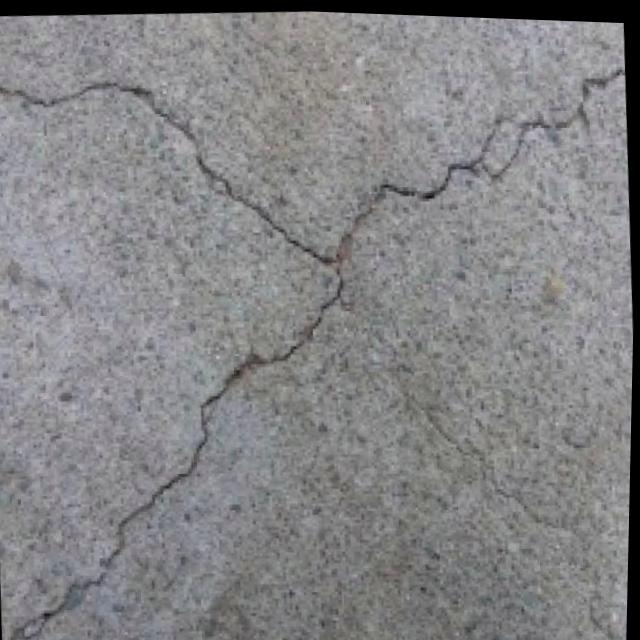Crack: (0, 23, 640, 640)
